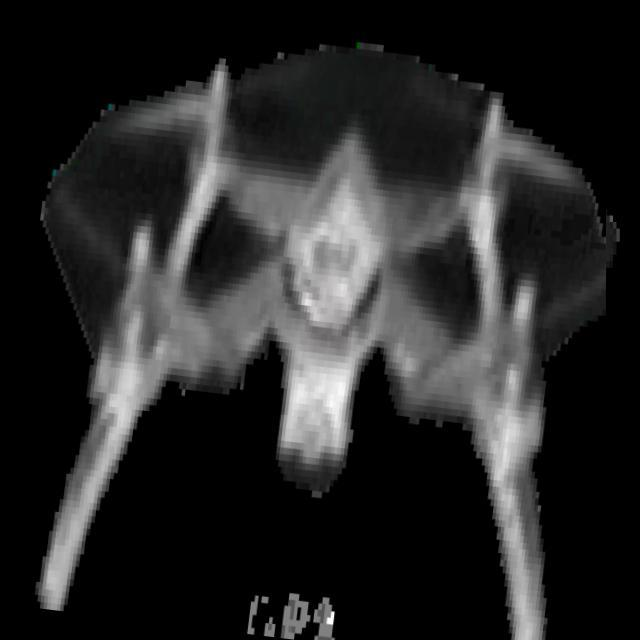drone: (23, 32, 606, 640)
